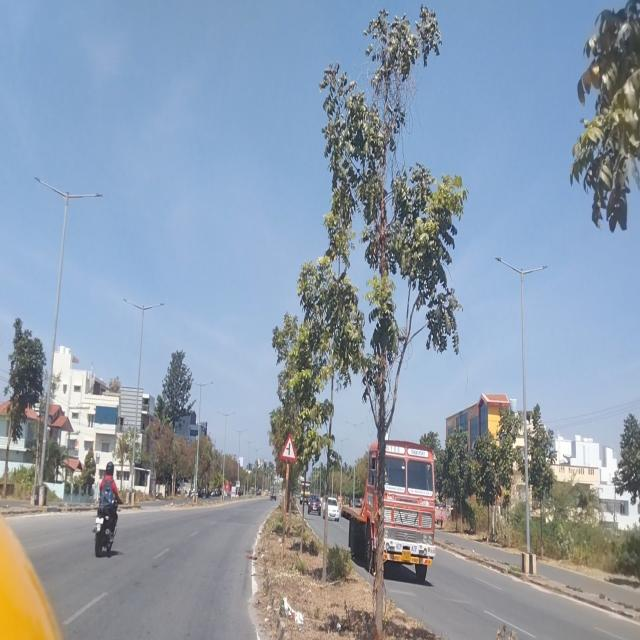bien_cam: (280, 433, 296, 463)
